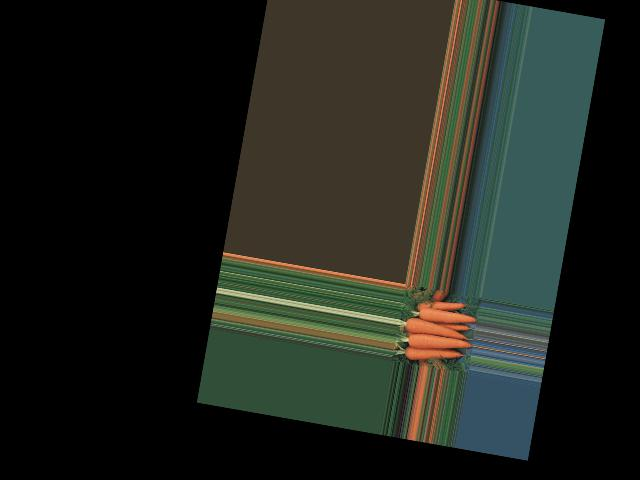carrot: (415, 302, 475, 330)
